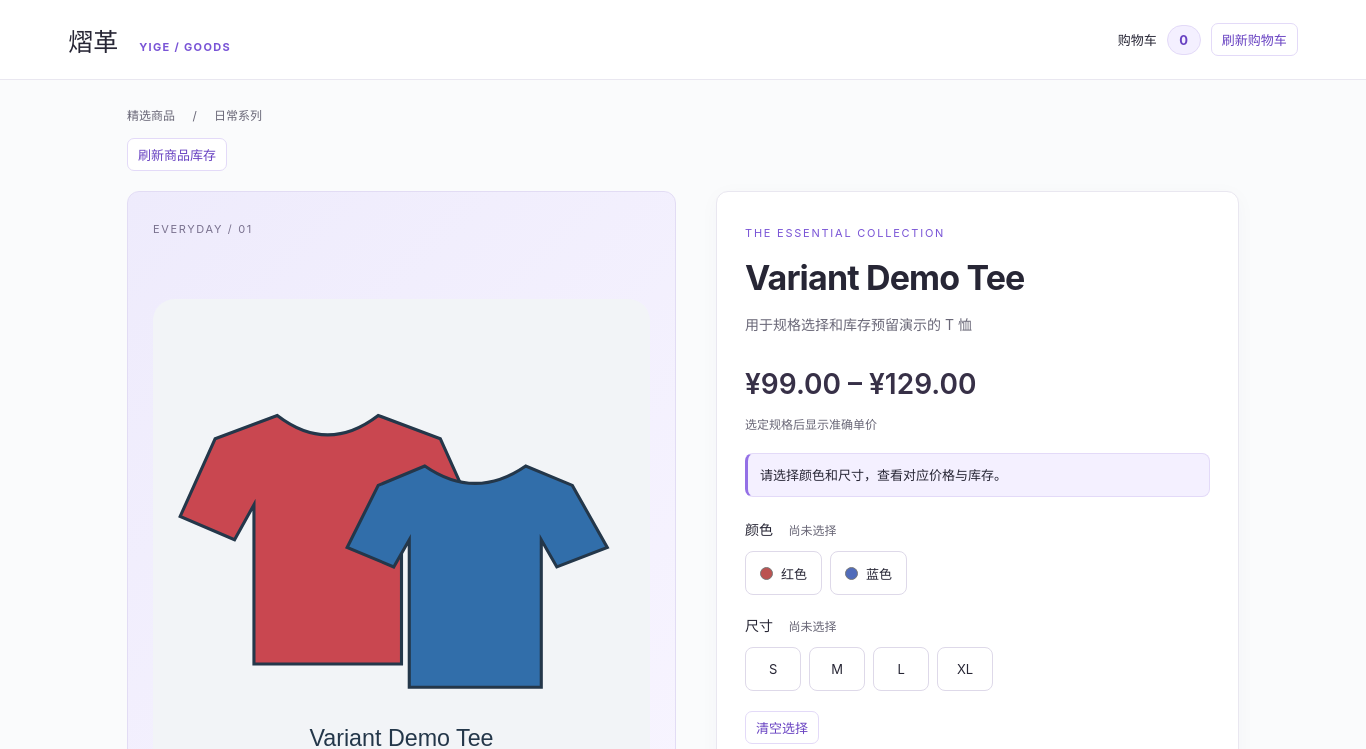
Scenario: FE11 successful POST survives both GET failures; retries only read
This screenshot has width=1366, height=749.
Expected: the heading "Variant Demo Tee" is shown, left=745, top=257, right=1024, bottom=298
Expected: the text with test id "cart-count" reads "0", left=1179, top=32, right=1188, bottom=48
Step 1. Click the button "红色" → point(784, 573), box left=745, top=551, right=822, bottom=595
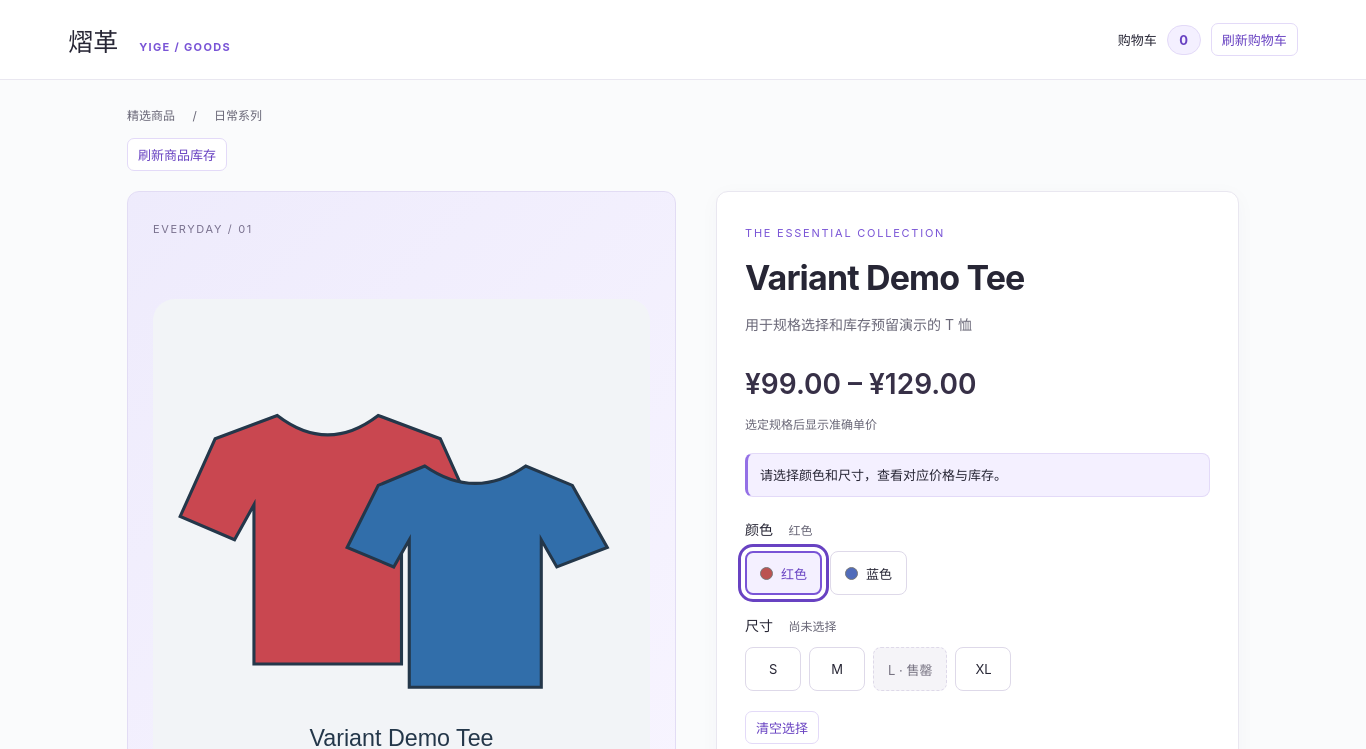
Step 2. Click the button "S" → point(773, 669), box left=745, top=647, right=801, bottom=691
(page scrolled)
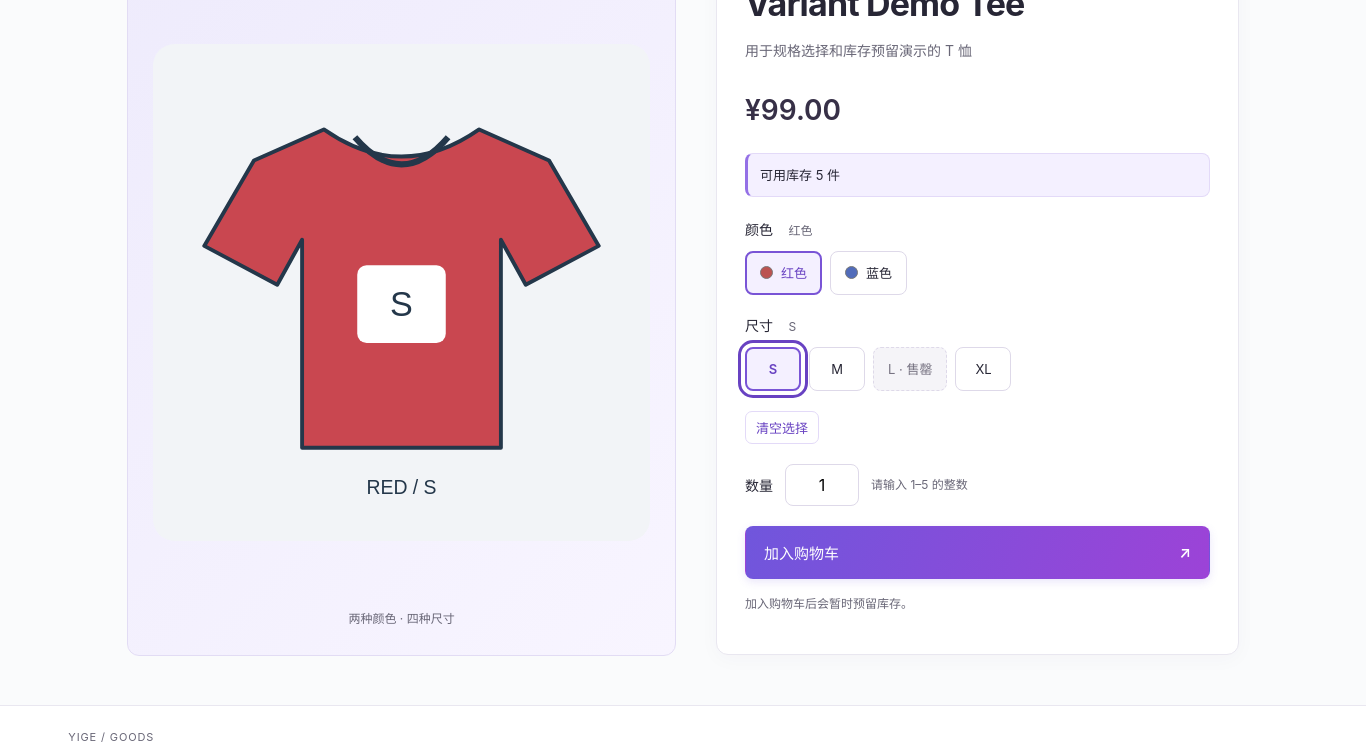
Step 3. Click the button "加入购物车 ↗" → point(802, 553), box left=745, top=526, right=1210, bottom=579
(page scrolled)
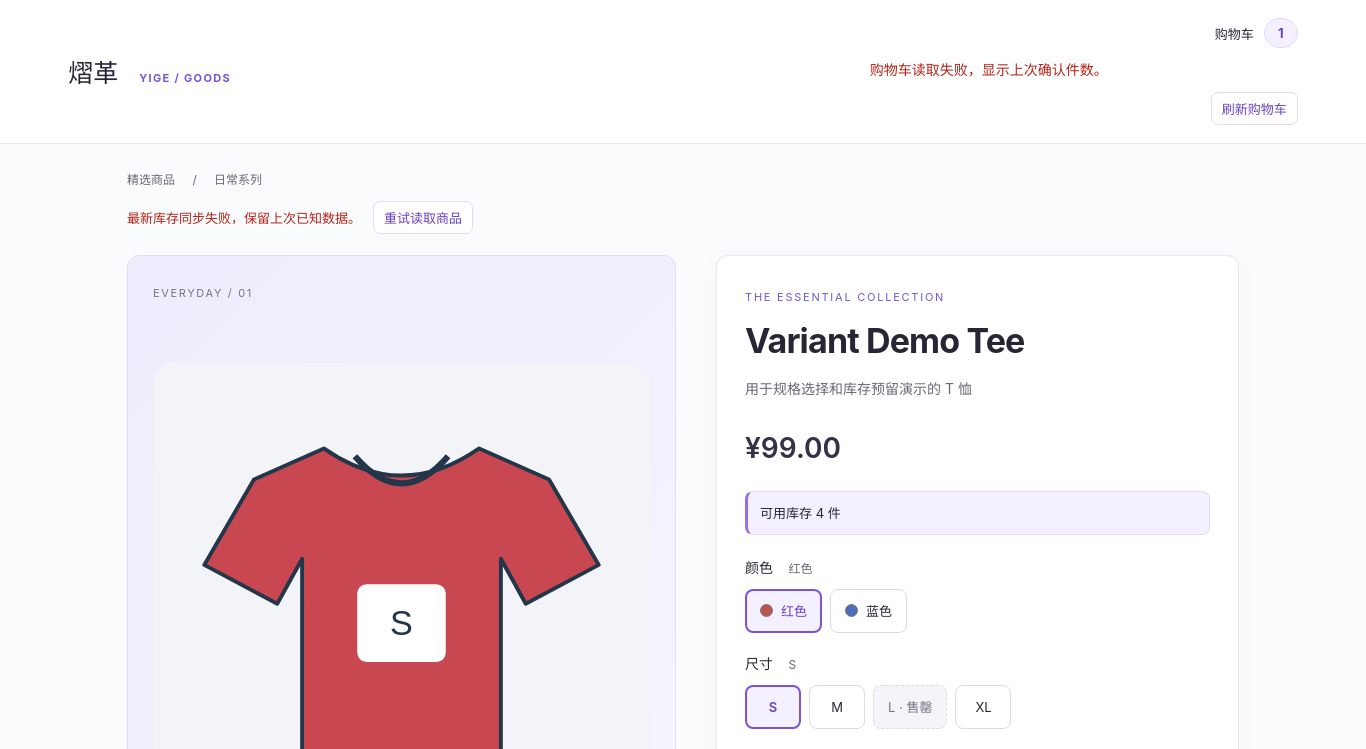
Expected: the text "最新库存同步失败，保留上次已知数据。" is shown, left=127, top=207, right=361, bottom=229
Expected: the text "购物车读取失败，显示上次确认件数。" is shown, left=870, top=61, right=1108, bottom=78
Expected: the text with test id "cart-count" reads "1", left=1278, top=25, right=1284, bottom=41
Step 4. Click the button "重试读取商品" → point(423, 218), box left=373, top=201, right=473, bottom=234
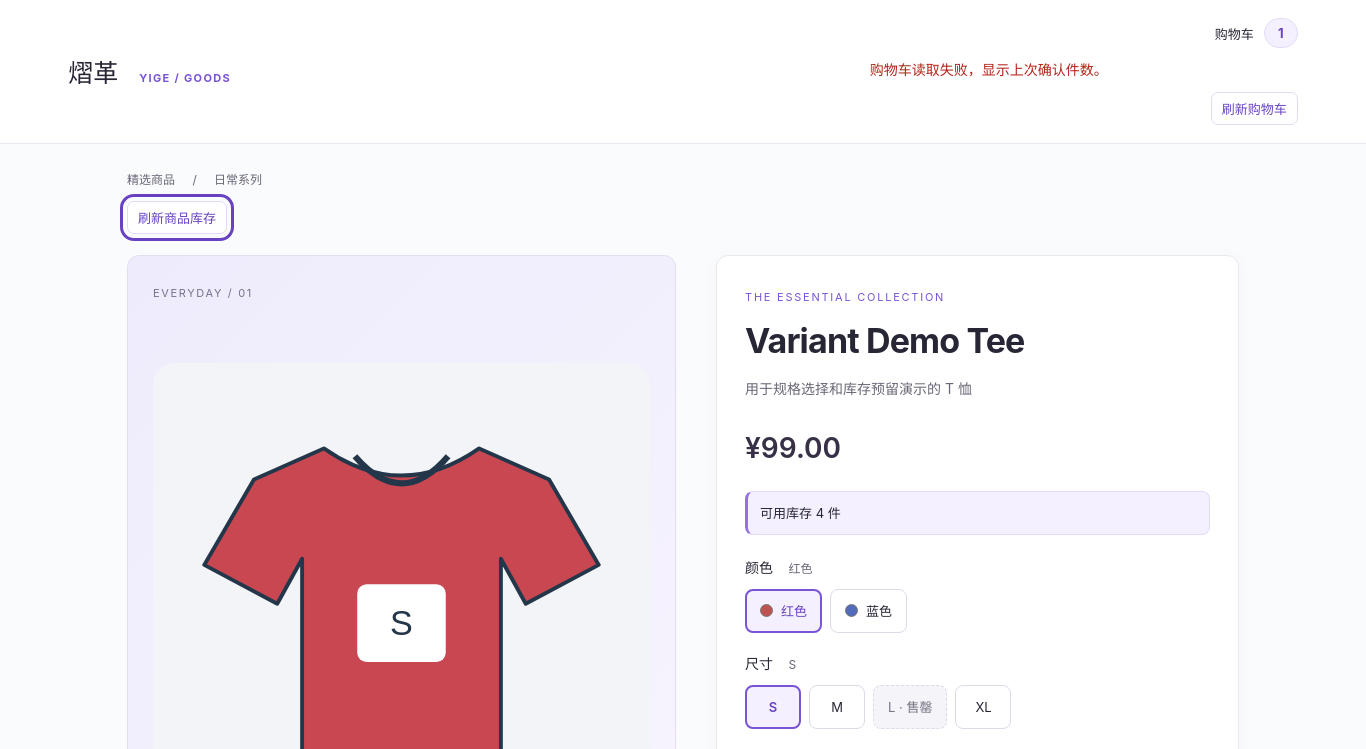
Step 5. Click the button "刷新购物车" → point(1254, 108), box left=1211, top=92, right=1298, bottom=125
(page scrolled)
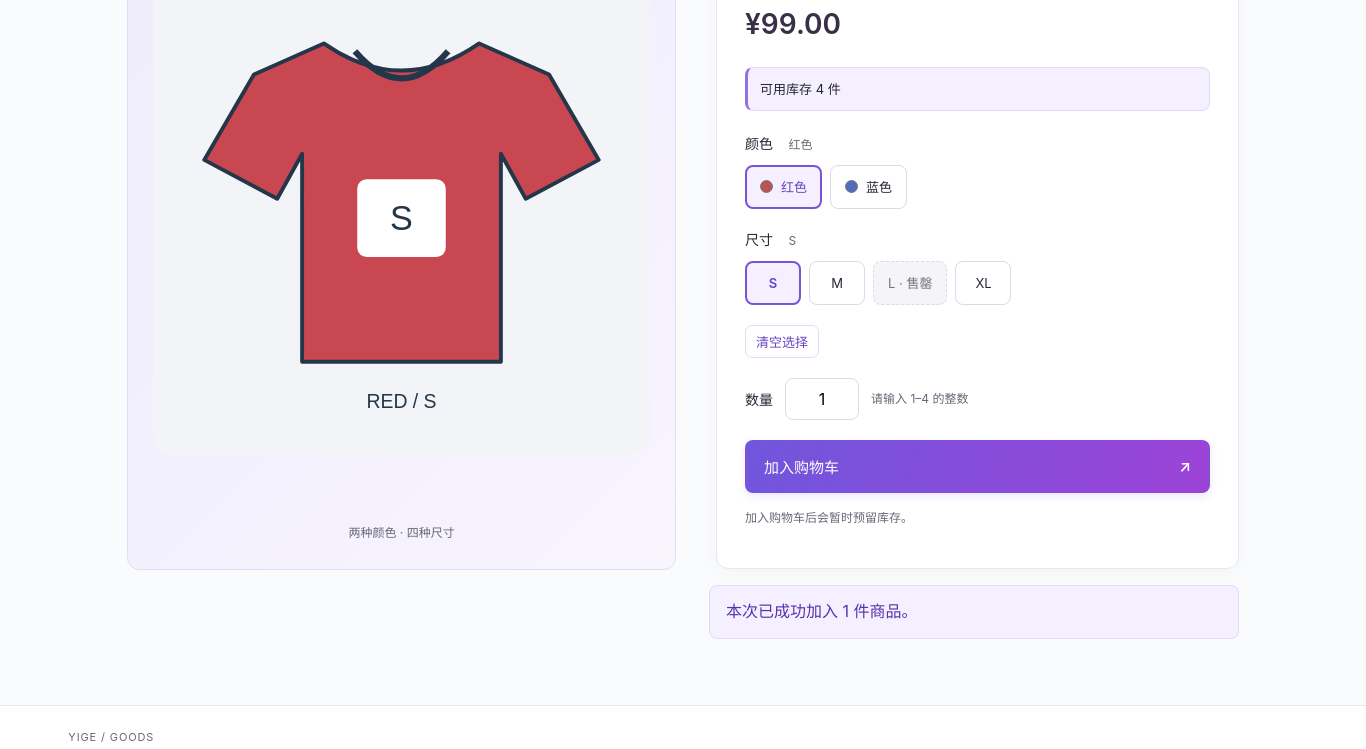
Expected: the text "本次已成功加入 1 件商品。" is shown, left=709, top=585, right=1239, bottom=639
Expected: the message "购物车读取失败，显示上次确认件数。" is gone
